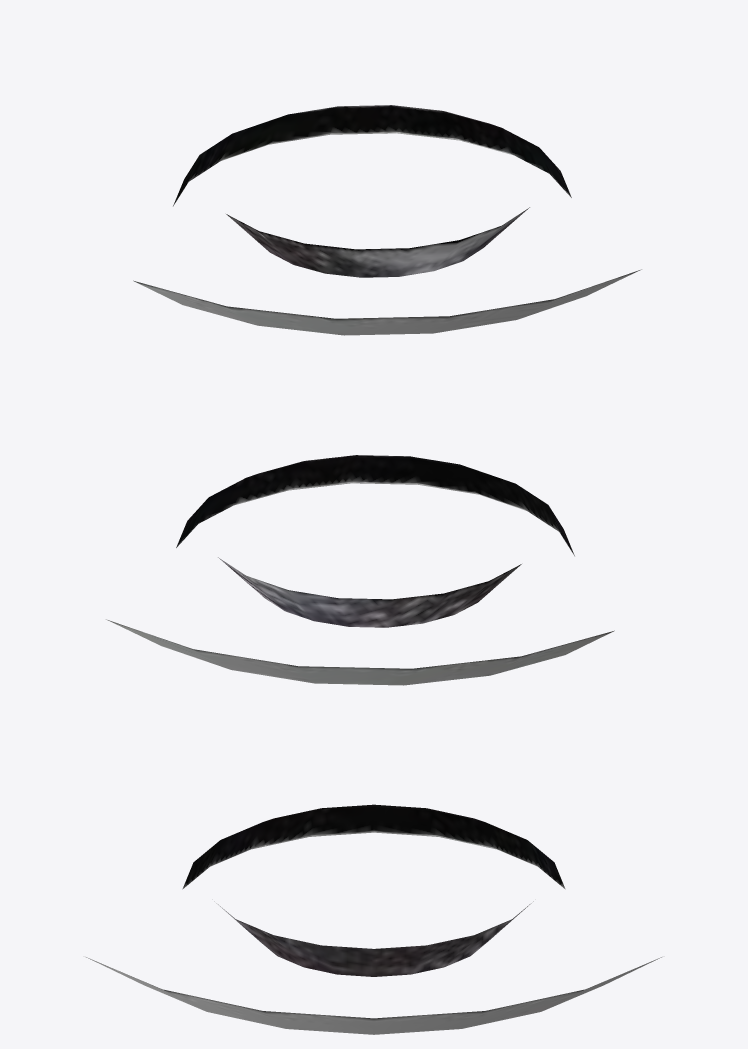
Rendered from light_inset.glb.
3 views of the same model, one above another, from view 1: azimuth 30°, elevation 25°; view 2: azimuth 150°, elevation 25°; view 3: azimuth 270°, elevation 25° (orthographic).
Parts seen in each view (by area): view 1: 0_light_inset; view 2: 0_light_inset; view 3: 0_light_inset.
Part boxes in pixels (x1,y1,x2,y2): 0_light_inset: [133, 105, 641, 335]; 0_light_inset: [106, 455, 614, 685]; 0_light_inset: [86, 804, 661, 1034].
Size of the model in its own units: 0.285 by 0.0405 by 0.285.
1 material, 1 textured.
